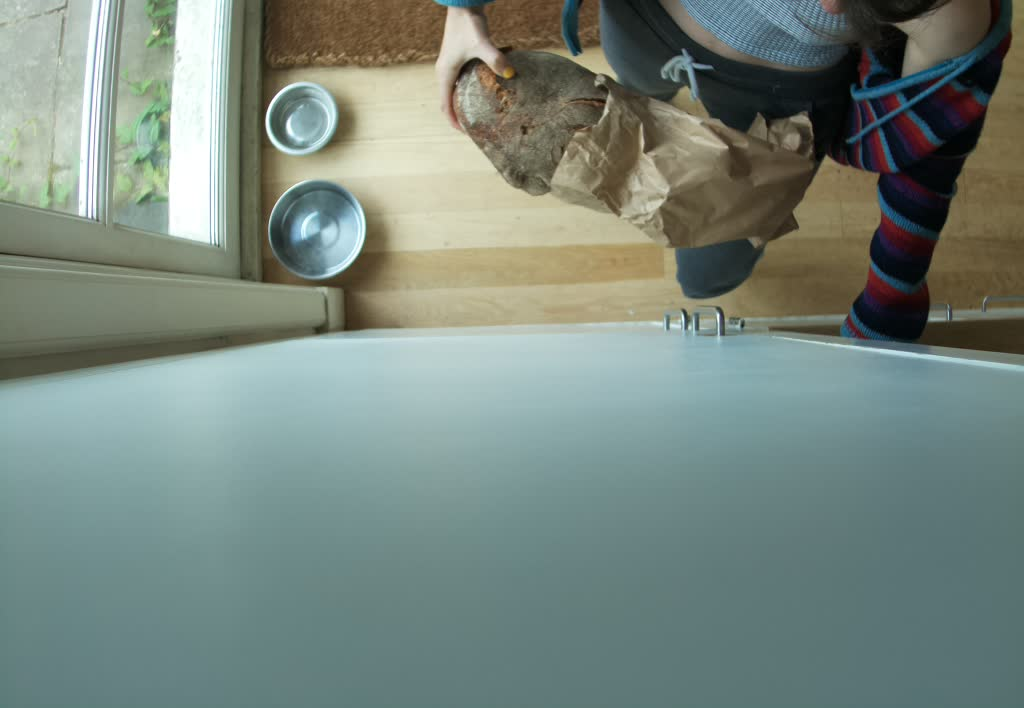bread: (449, 43, 633, 196)
